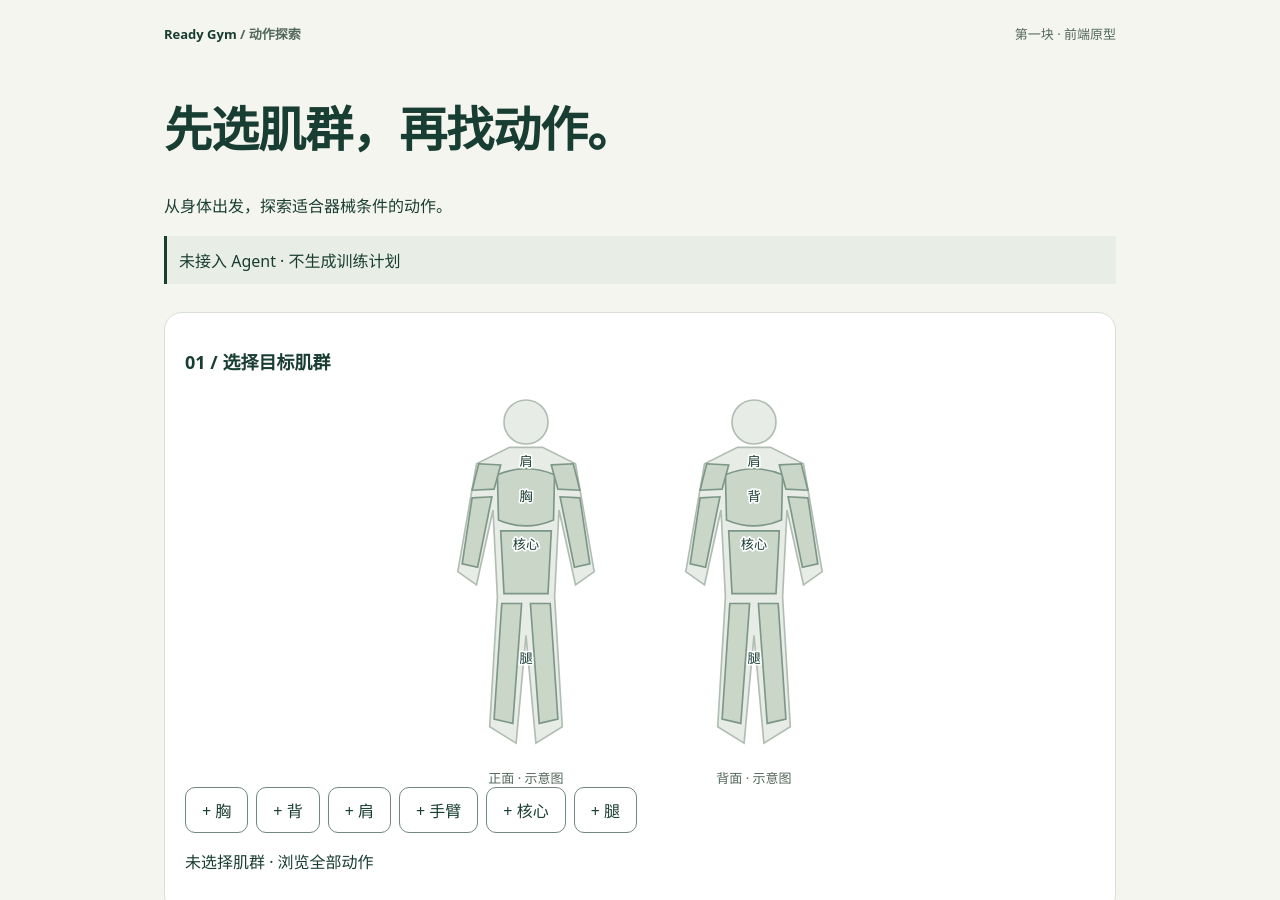
Scenario: 肌群与动作探索 › 文字肌群按钮点选与取消后同步状态
Click the button "+ 胸" at [217, 810], box [185,787,248,833]
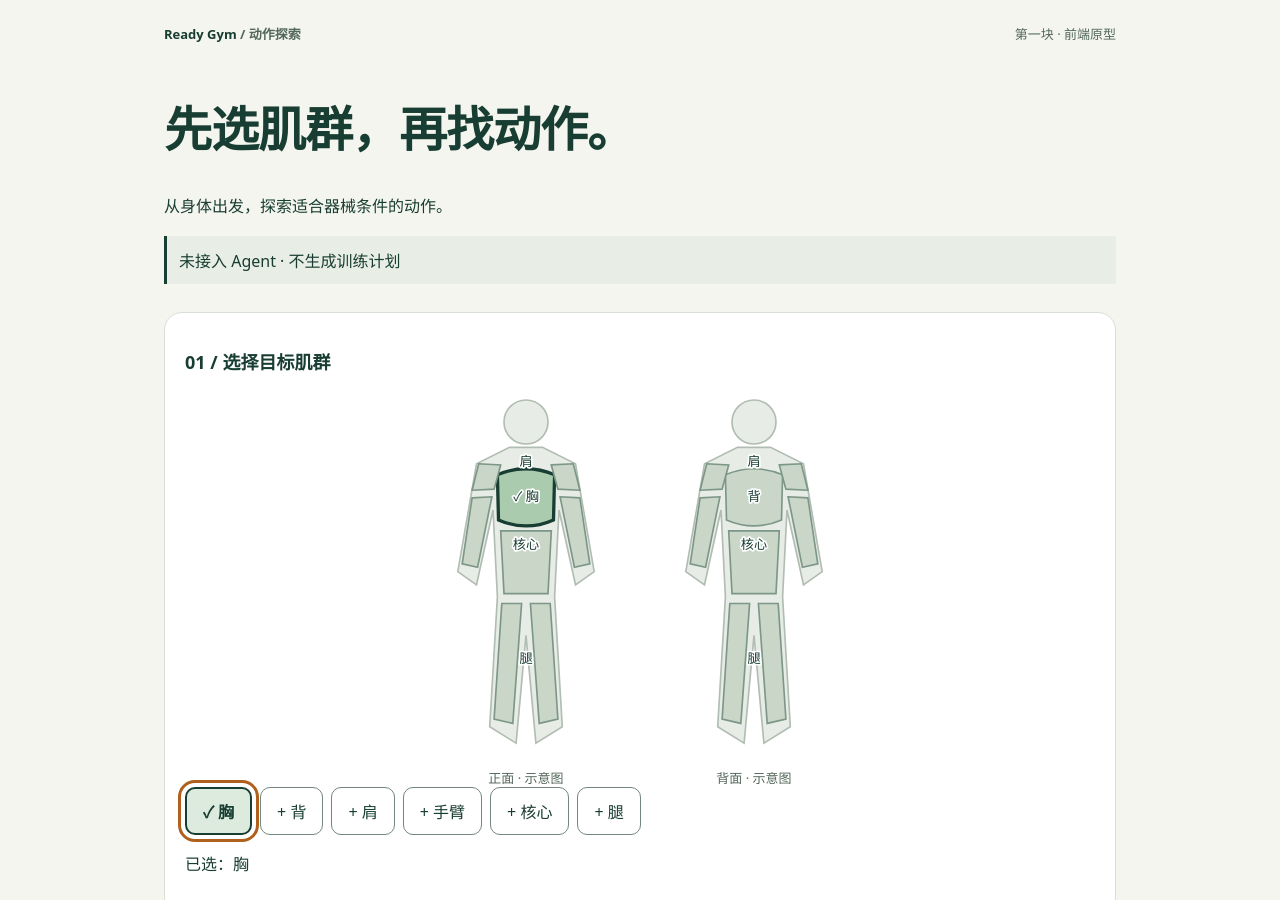
Result: the message reads "已选：胸" at [185,853,249,875]
Click the button "✓ 胸" at [219, 811], box [185,787,252,835]
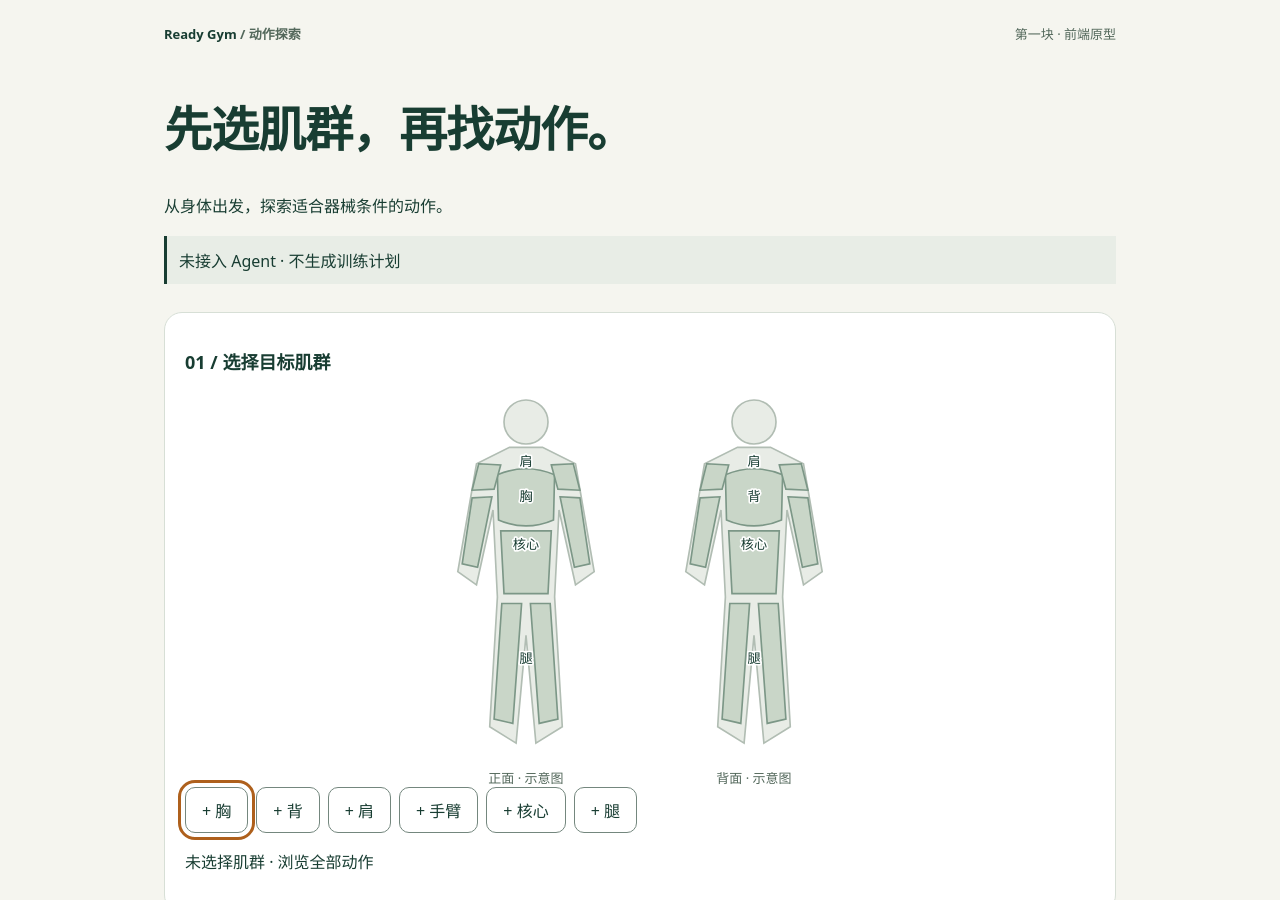
Result: the message shows "未选择肌群" at [185,851,374,873]
